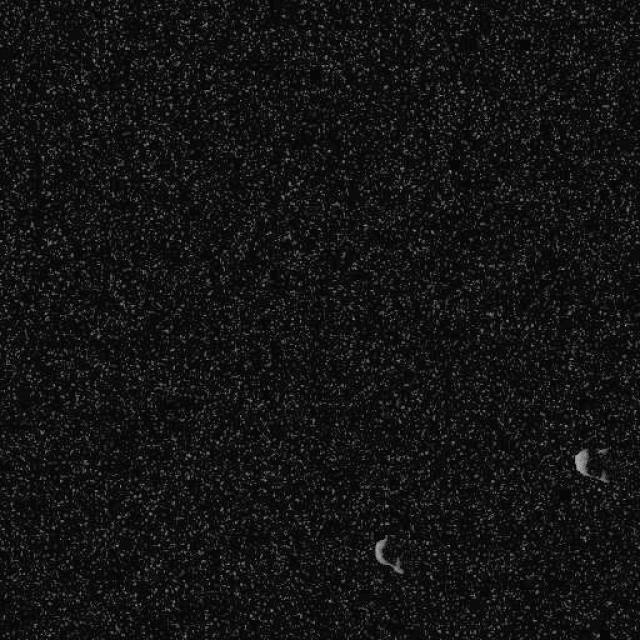D2: (572, 444, 612, 484), (372, 535, 403, 575)
